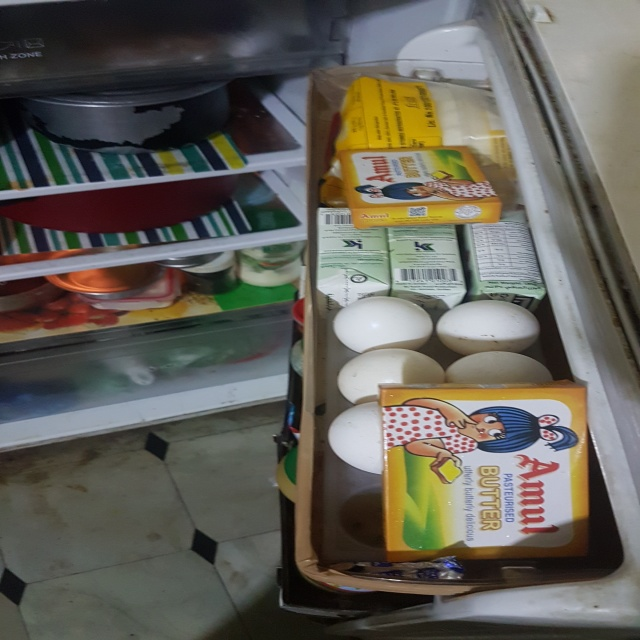butter: (374, 379, 614, 583), (336, 143, 509, 234)
eggs: (324, 396, 428, 484), (443, 344, 567, 409), (329, 289, 443, 354), (434, 298, 543, 362), (330, 347, 448, 404)
